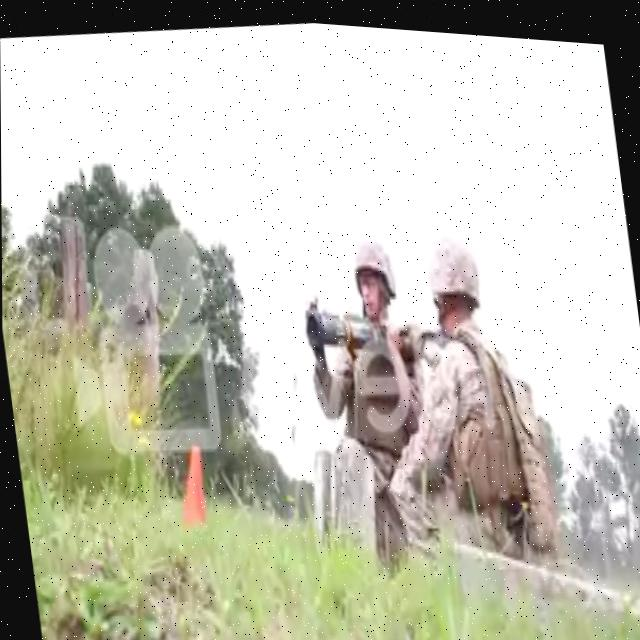rocket: (302, 284, 396, 352)
